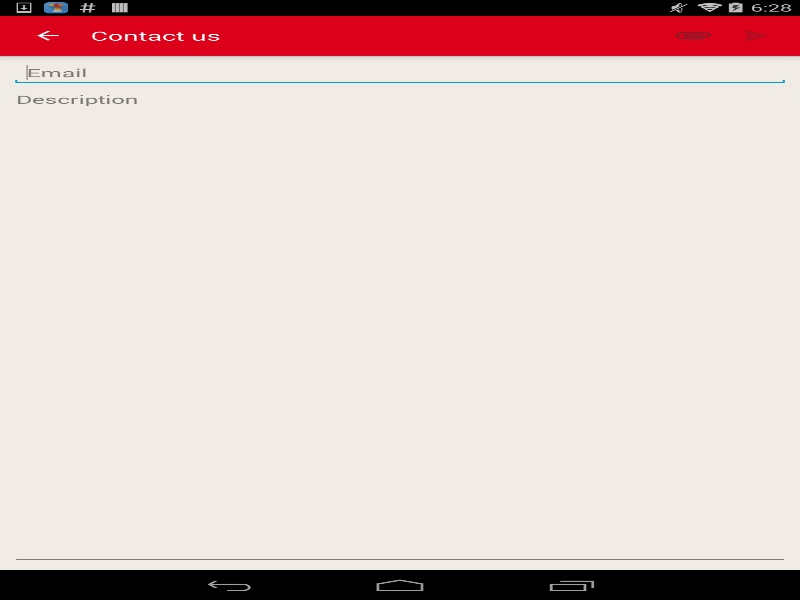Button: (10, 15, 85, 55)
Input: (10, 85, 789, 565), (10, 60, 789, 85)
